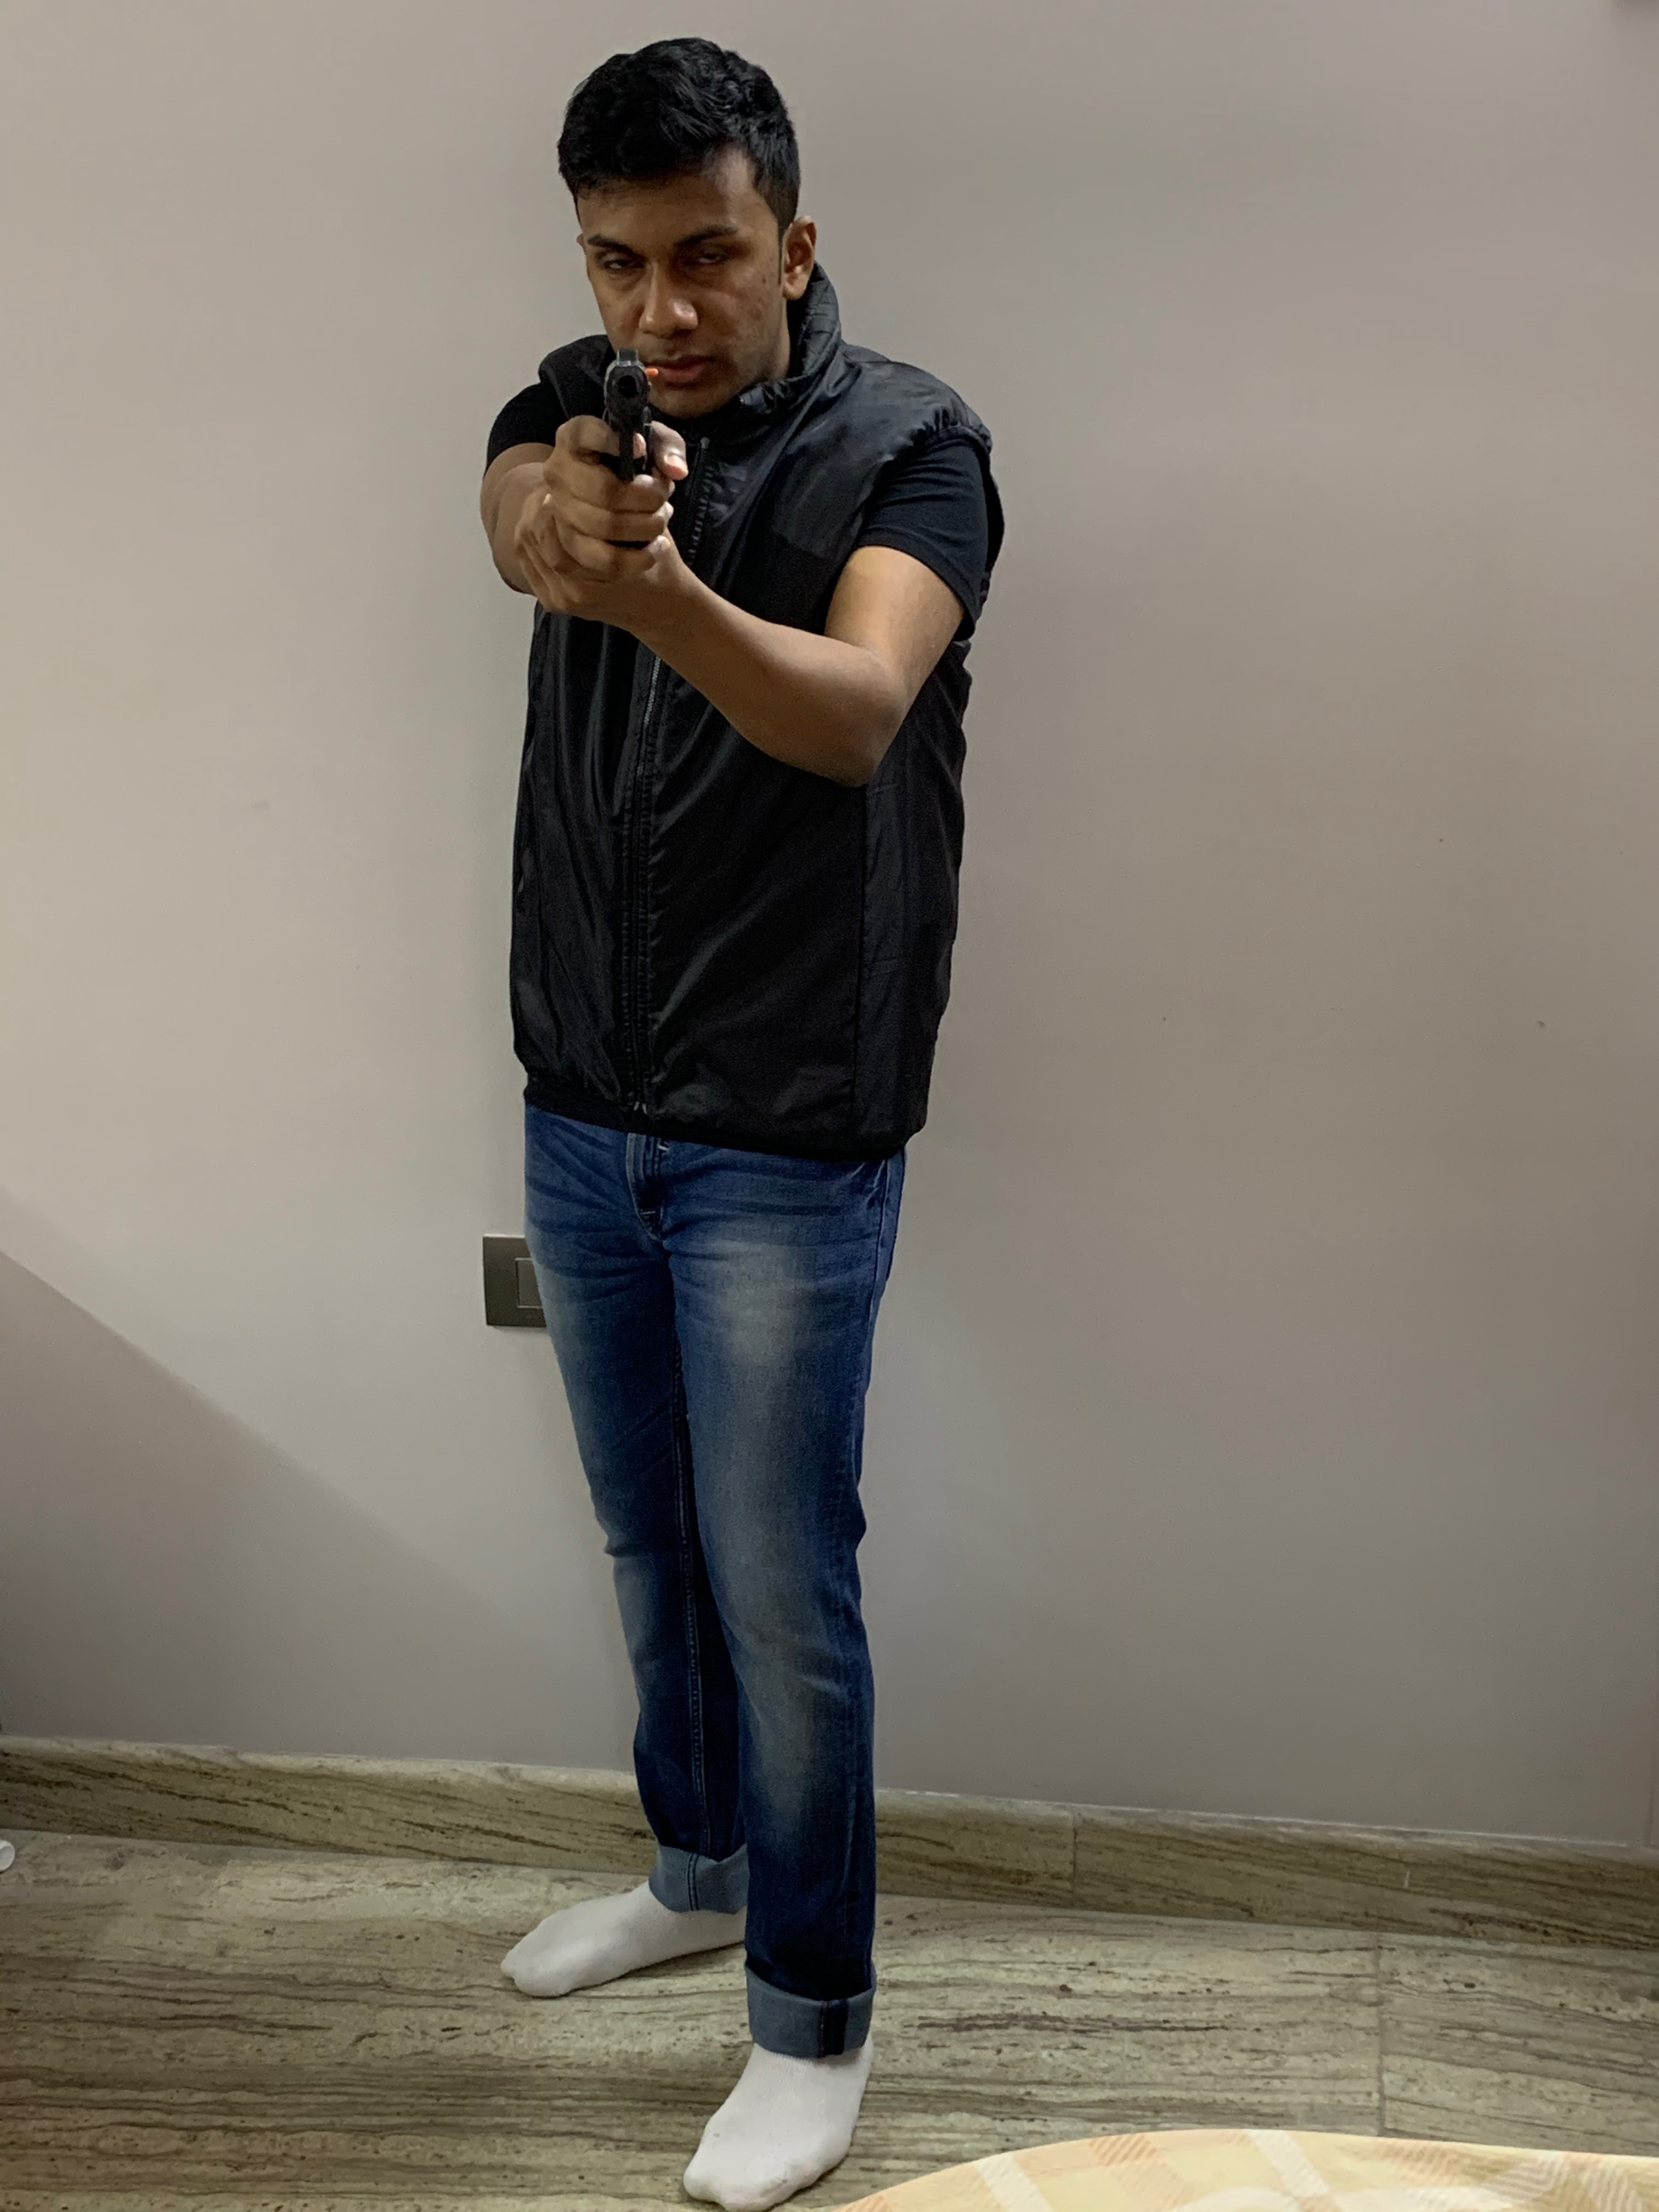gun: (599, 352, 659, 477)
